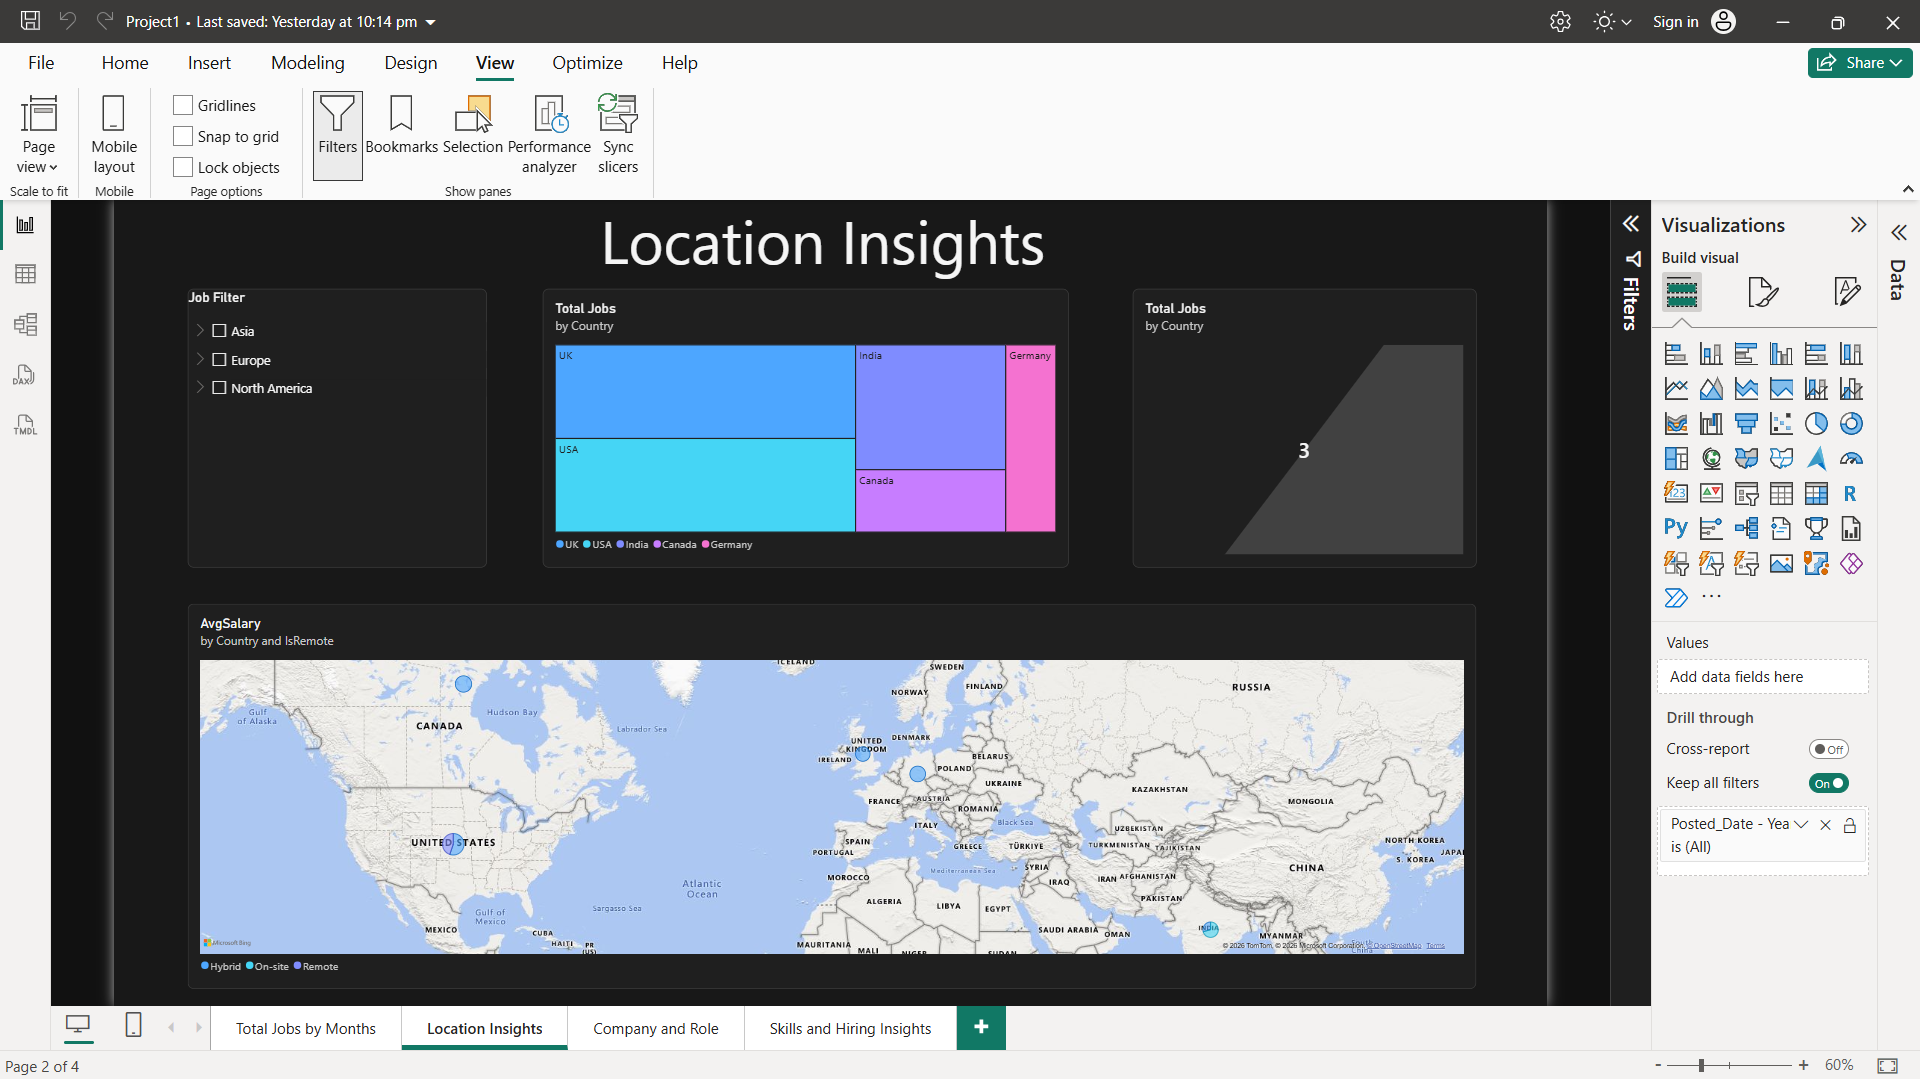

Layout of this report page (visuals, bound fields, positions):
{"tool":"powerbi","page":{"name":"Location Insights","canvas":[1920,1080],"ordinal":1},"visuals":[{"type":"textbox","box":[620,0,660,112],"z":0},{"type":"slicer","title":"Job Filter","fields":{"Values":["Dim_Locations.Region","Fact_Jobs.Experience_Level","Fact_Jobs.Posted_Date.Variation.Date Hierarchy.Year","Fact_Jobs.Posted_Date.Variation.Date Hierarchy.Month"]},"box":[99.4,118.6,401.2,373.3],"z":1000},{"type":"map","fields":{"Category":["Dim_Locations.Country"],"Series":["Fact_Jobs.IsRemote"],"Size":["Fact_Jobs.AvgSalary"]},"box":[99.4,540.7,1726.7,516.3],"z":3000},{"type":"kpi","title":"Total Jobs","fields":{"Indicator":["Fact_Jobs.TotalJobs"],"TrendLine":["Dim_Locations.Country"]},"box":[1365.7,118.6,460.5,373.3],"z":4000},{"type":"treemap","title":"Total Jobs","fields":{"Group":["Dim_Locations.Country","Dim_Locations.City"],"Values":["Fact_Jobs.TotalJobs"]},"box":[573.8,118.6,704.7,373.3],"z":5000}]}

Visuals, with their boxes on the page's 1920x1080 design canvas (x1, y1, x2, y2). These are canvas units, not pixel positions in the 1920x1079 screenshot, which may show the page scaled, cropped or inside an application window:
textbox: [620,0,1280,112]
"Job Filter" slicer: [99,119,501,492]
map - Dim_Locations.Country x Fact_Jobs.IsRemote: [99,541,1826,1057]
"Total Jobs" kpi: [1366,119,1826,492]
"Total Jobs" treemap: [574,119,1278,492]
